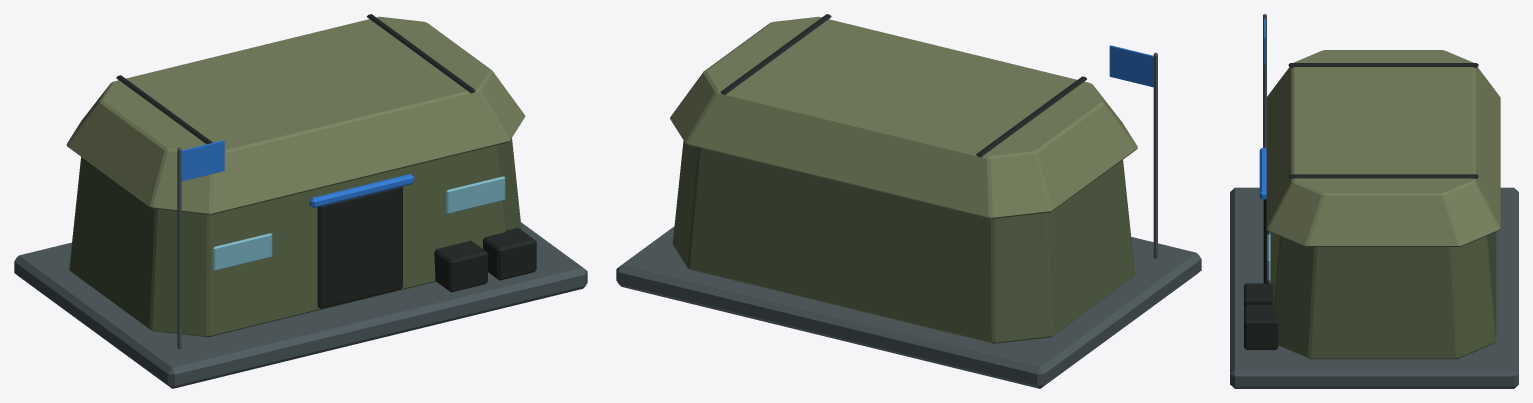
The model's file is h_barracks.glb.
3 views of the same model, side by side, from view 1: azimuth 30°, elevation 25°; view 2: azimuth 150°, elevation 25°; view 3: azimuth 270°, elevation 25° (orthographic). The views are drawn at different scales.
Parts seen in each view (by area): view 1: Barracks; view 2: Barracks; view 3: Barracks.
Part boxes in pixels (x1=…): Barracks: x1=14, y1=14, x2=587, y2=388; Barracks: x1=616, y1=14, x2=1201, y2=388; Barracks: x1=1230, y1=14, x2=1518, y2=388.
Bounding box in the file's own units: 5.8 × 2.95 × 3.8.
